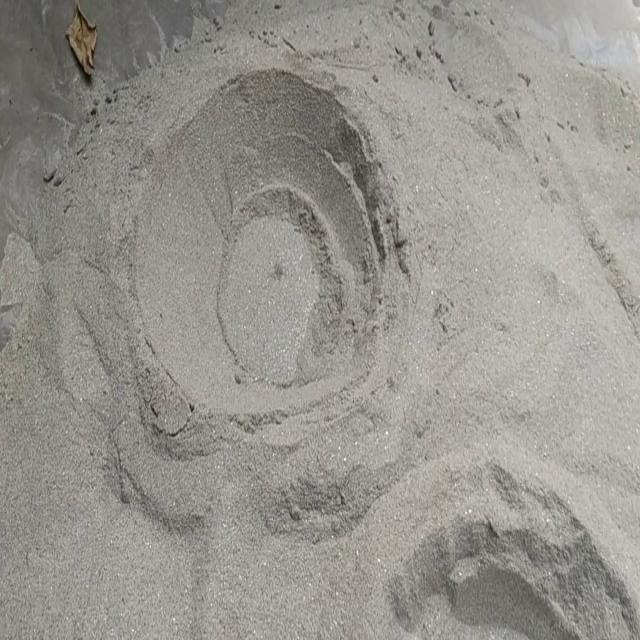C20: (138, 71, 382, 419), (404, 558, 585, 639)
